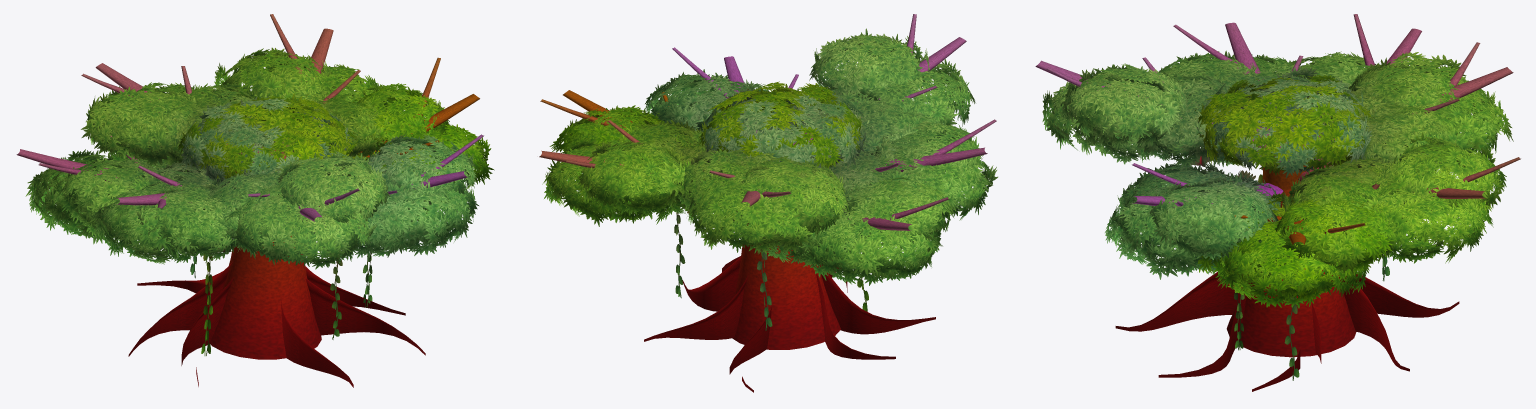
The model's file is ceiba.glb.
The picture shows the model from 3 angles, left to right: view 1: azimuth 30°, elevation 25°; view 2: azimuth 150°, elevation 25°; view 3: azimuth 270°, elevation 25°; orthographic projection. The views are drawn at different scales.
Parts seen in each view (by area): view 1: ceiba; view 2: ceiba; view 3: ceiba.
Boxes of the visible parts, bbox=[...] form: ceiba: bbox=[16, 14, 494, 387]; ceiba: bbox=[539, 14, 997, 392]; ceiba: bbox=[1035, 14, 1520, 391].
Size of the model in its own units: 19 by 10.32 by 17.92.
Materials: 2 (2 with a texture image).
